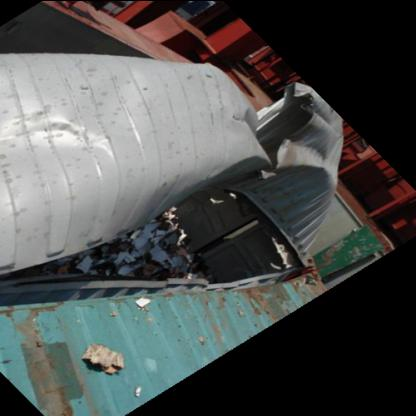Damage: (9, 200, 269, 300)
